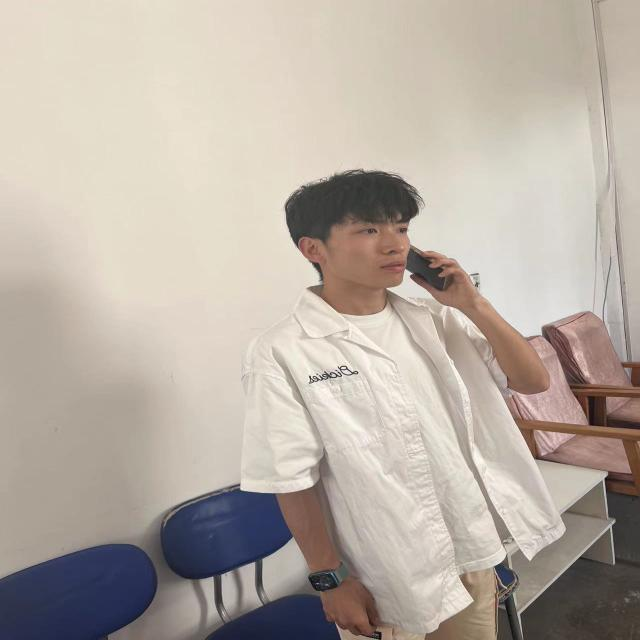phone: (407, 242, 450, 291)
